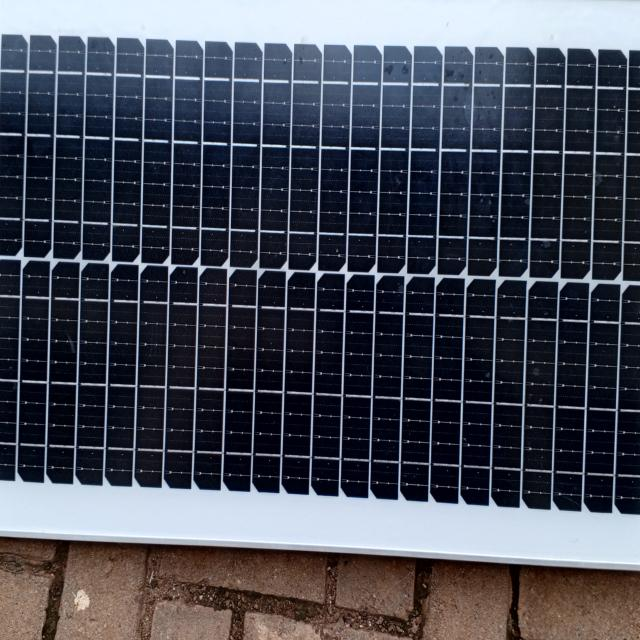Clean: (9, 11, 640, 524)
